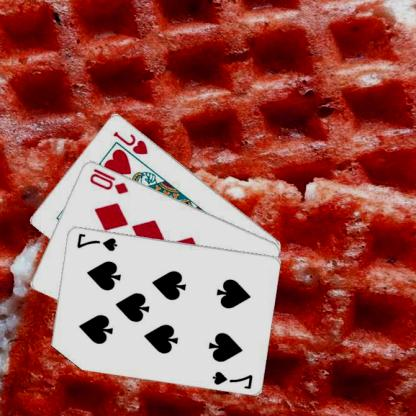10D: (89, 165, 131, 195)
7S: (76, 230, 120, 252), (211, 368, 255, 390)
JH: (112, 128, 151, 156)
